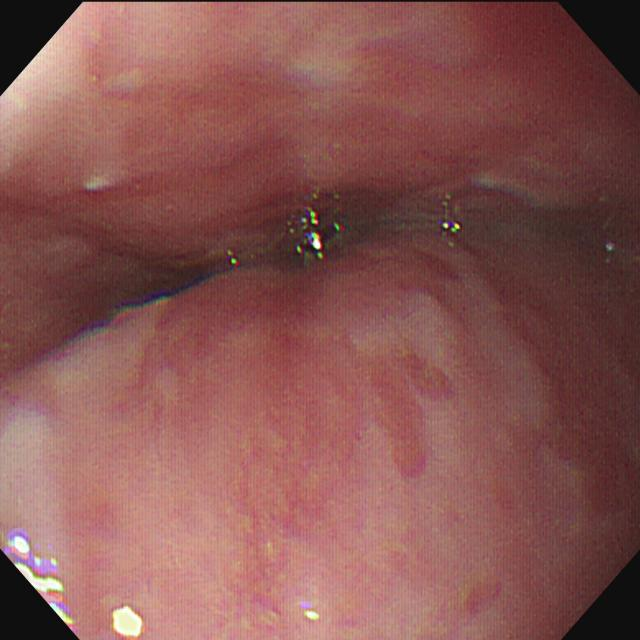J: (342, 292, 583, 592), (2, 295, 177, 534)
U: (3, 532, 77, 635), (289, 196, 347, 260), (107, 600, 146, 640), (438, 212, 463, 239), (223, 242, 244, 272), (302, 605, 321, 626)
